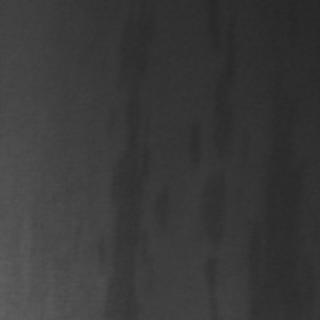inclusion: (102, 1, 158, 316), (258, 75, 314, 315), (196, 0, 237, 254), (197, 250, 225, 318)
